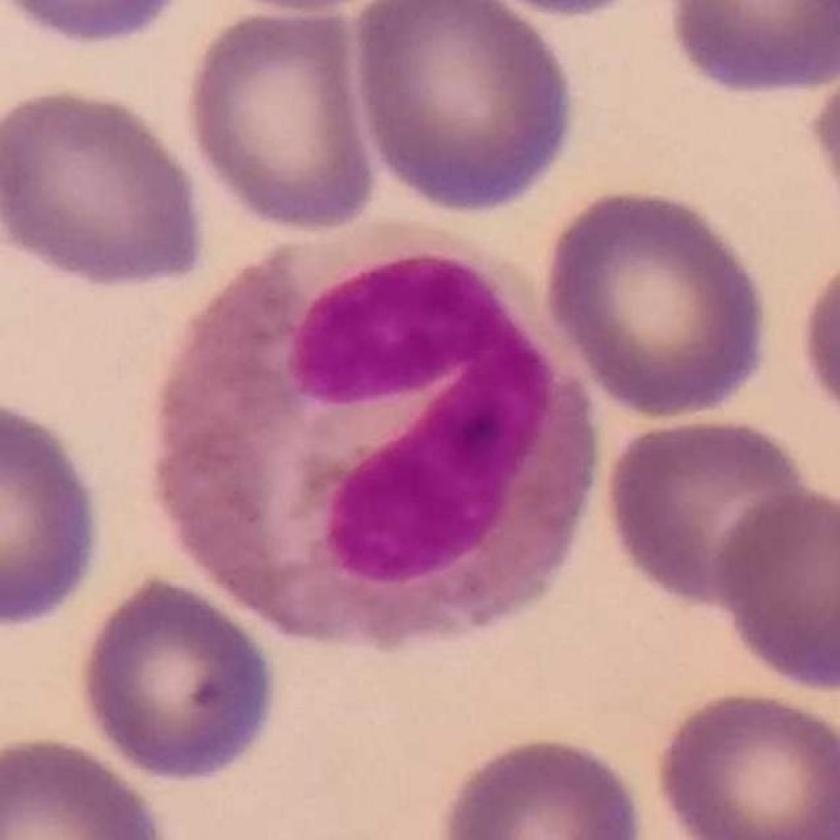eosinophil: (155, 227, 605, 660)
